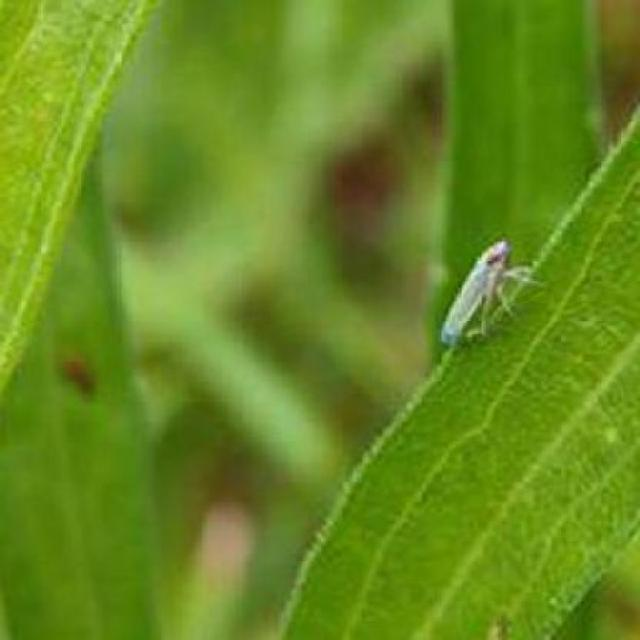green-leafhopper: (436, 237, 524, 346)
